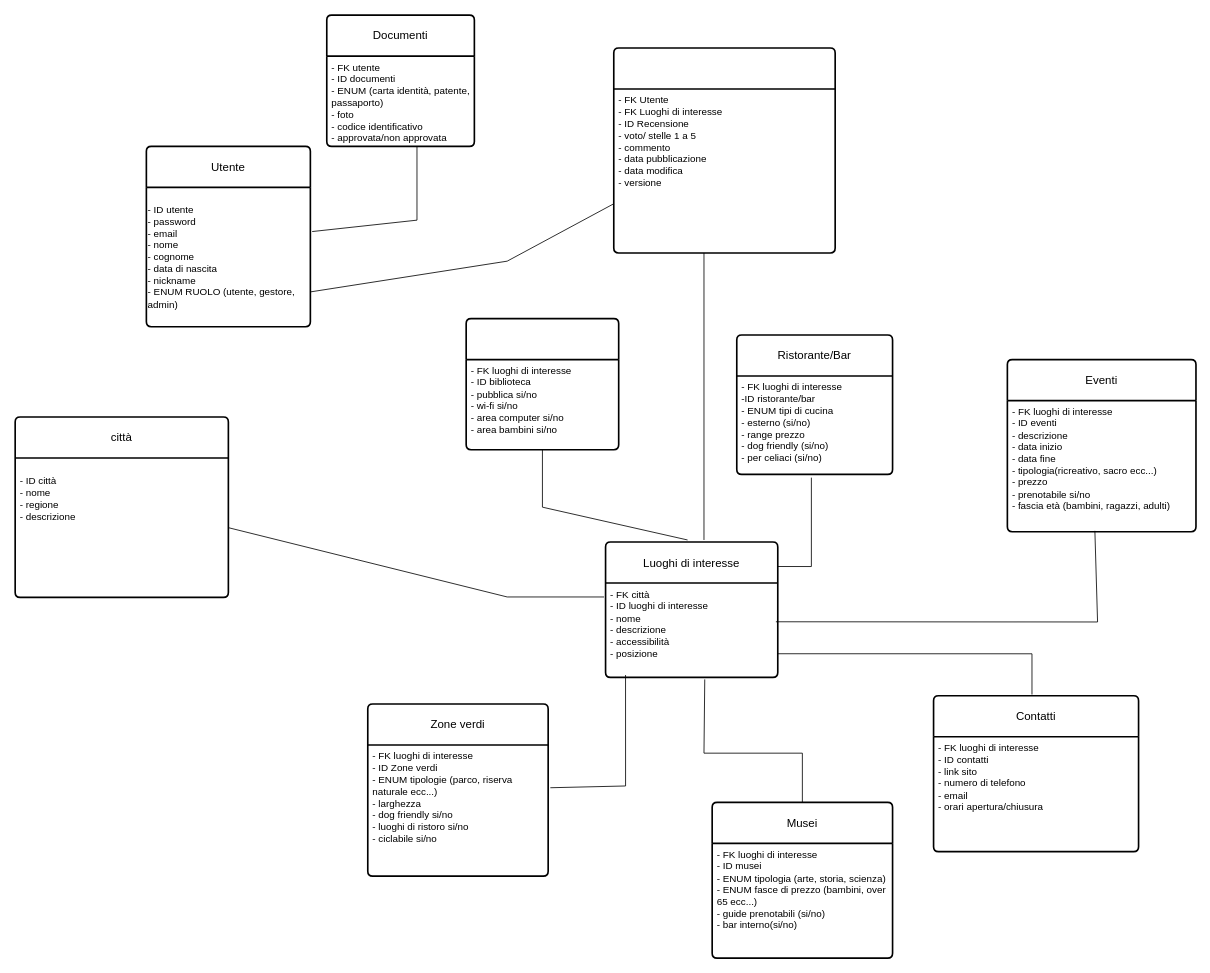
Image size: 1210x973. Some labels were removed from this diagram. The box of each missing label's shape, as (x1, y1, x2, y2) in pixels:
Biblioteche: (465, 317, 619, 450)
Recensioni: (613, 47, 836, 253)
